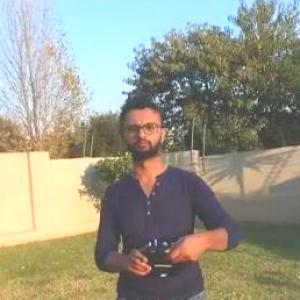follow: (88, 91, 246, 299)
